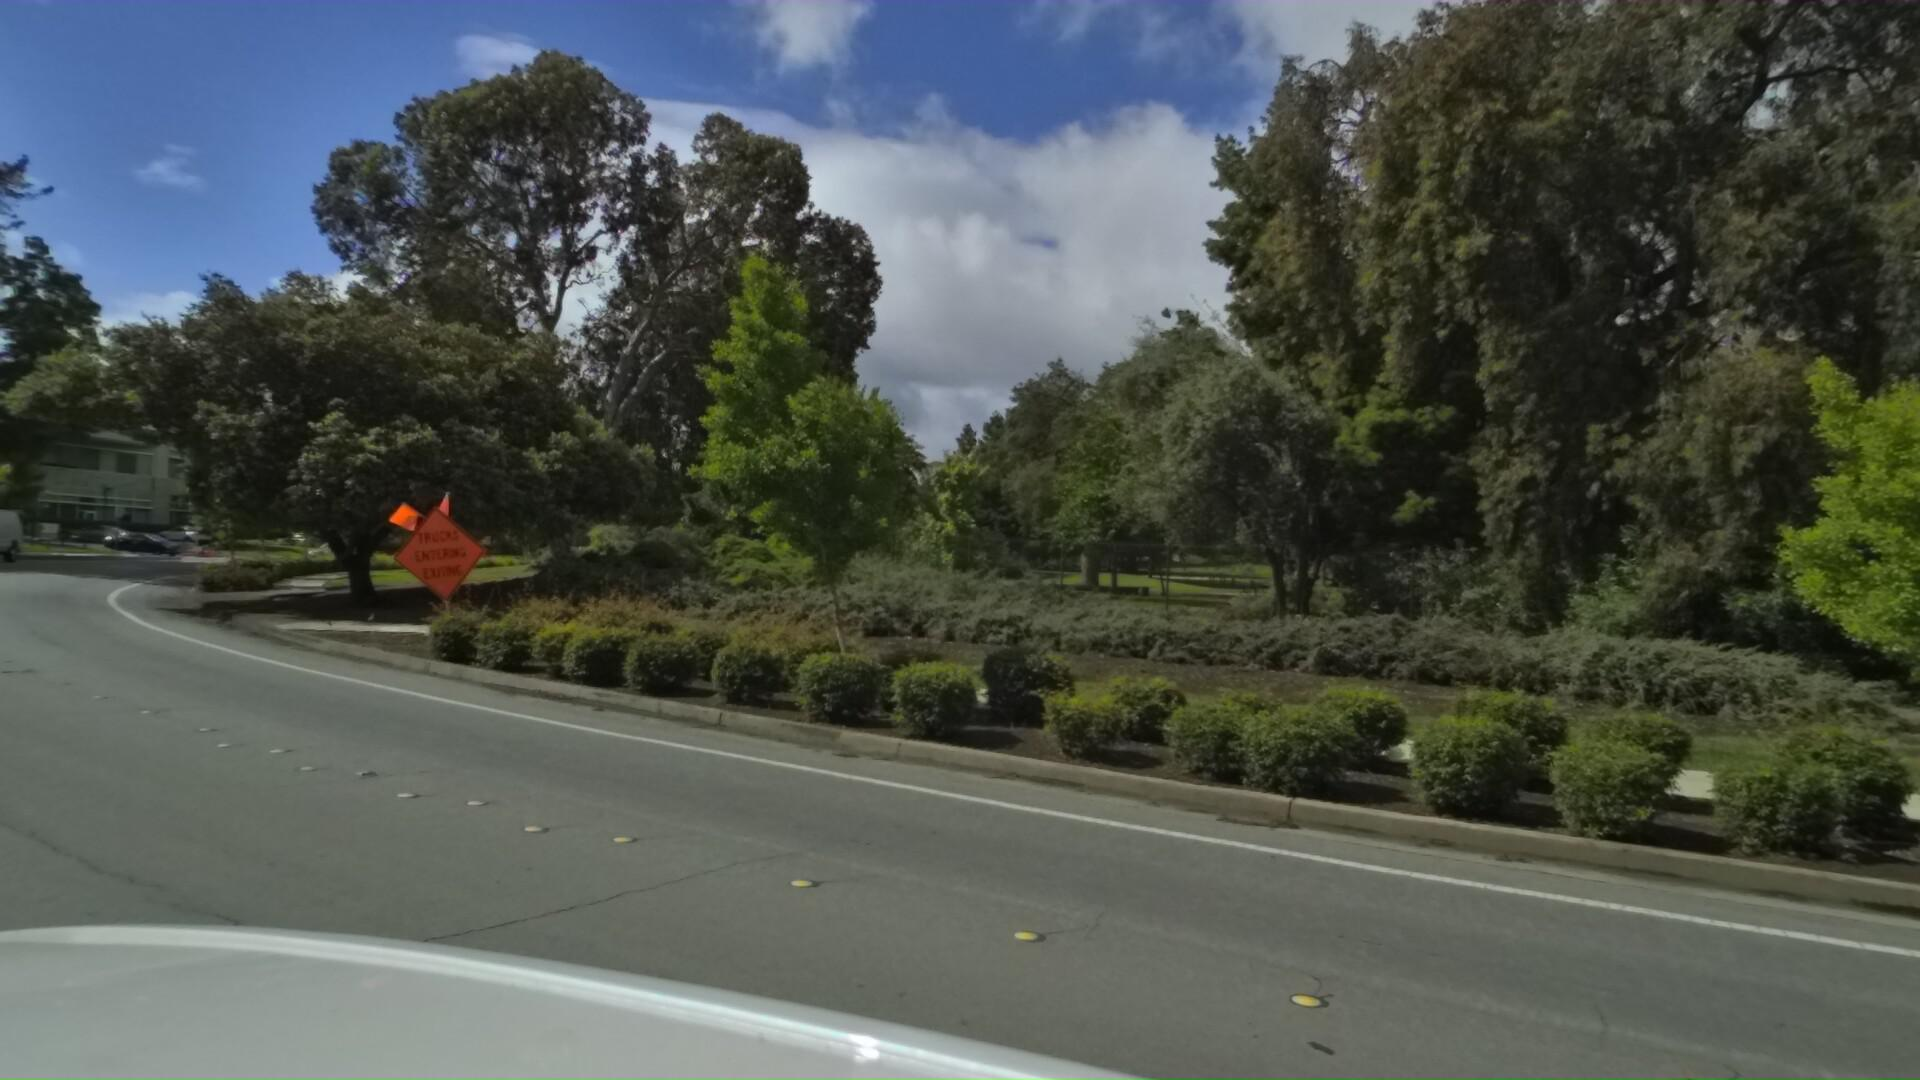car: (0, 491, 34, 563)
